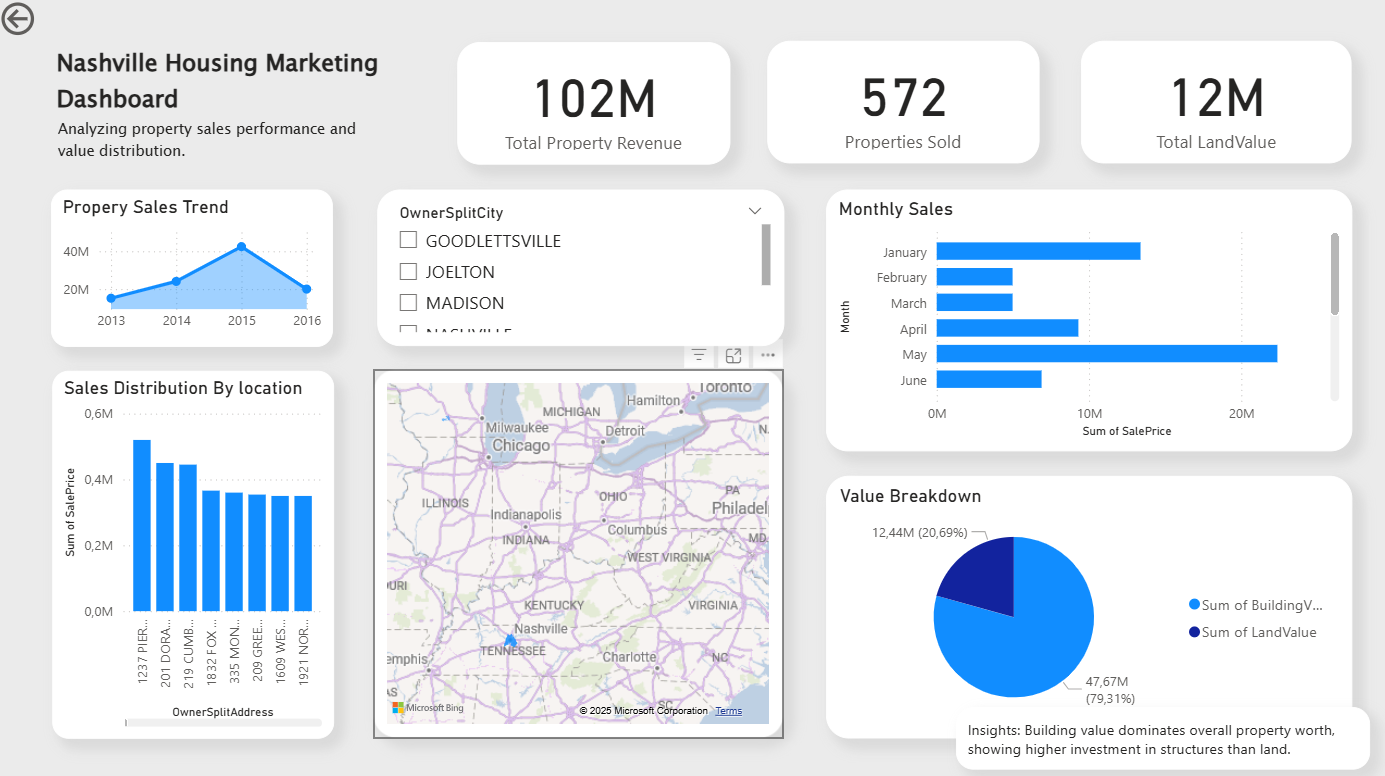

The dashboard page shown, as its layout file describes it:
{"tool":"powerbi","page":{"name":"Page 1","canvas":[1280,720],"ordinal":0},"visuals":[{"type":"textbox","box":[50.3,40.5,333.7,76.1],"z":0},{"type":"card","fields":{"Values":["Sum(nashvillehousing_messy_2.SalePrice)"]},"box":[424,41.2,251.1,112.5],"z":1000},{"type":"card","fields":{"Values":["CountNonNull(nashvillehousing_messy_2.PropertySplitAddress)"]},"box":[709.2,40.5,250.3,112.9],"z":2000},{"type":"filledMap","fields":{"Category":["nashvillehousing_messy_2.PropertySplitCity"]},"box":[347.1,342.9,377.1,338.6],"z":3000},{"type":"areaChart","title":"Propery Sales Trend ","fields":{"Category":["nashvillehousing_messy_2.SaleDateConverted.Variation.Date Hierarchy.Year"],"Y":["Sum(nashvillehousing_messy_2.SalePrice)"]},"box":[50.3,176.7,258.9,144.8],"z":4000},{"type":"card","fields":{"Values":["Sum(nashvillehousing_messy_2.LandValue)"]},"box":[997.6,40.5,249.1,112.9],"z":5000},{"type":"actionButton","box":[0,0,100,40],"z":6000},{"type":"clusteredBarChart","title":"Monthly Sales","fields":{"Category":["nashvillehousing_messy_2.SaleDateConverted.Variation.Date Hierarchy.Month"],"Y":["Sum(nashvillehousing_messy_2.SalePrice)"]},"box":[763.3,177.1,483.9,240.5],"z":7000},{"type":"clusteredColumnChart","title":"Sales Distribution By location","fields":{"Category":["nashvillehousing_messy_2.OwnerSplitAddress"],"Y":["Sum(nashvillehousing_messy_2.SalePrice)"]},"box":[51.5,343.6,258.9,338.7],"z":8000},{"type":"textbox","box":[51.5,106.9,299.2,53.1],"z":10000},{"type":"pieChart","title":"Value Breakdown","fields":{"Y":["Sum(nashvillehousing_messy_2.BuildingValue)","Sum(nashvillehousing_messy_2.LandValue)"]},"box":[763.8,440,483.8,241.2],"z":10001},{"type":"slicer","fields":{"Values":["nashvillehousing_messy_2.OwnerSplitCity"]},"box":[350,177.1,374.3,144.3],"z":10002},{"type":"textbox","box":[882.9,652.4,380.6,57.6],"z":10003}]}

Visuals, with their boxes in screenshot pixels (x1, y1, x2, y2), scaled from the page's 1280x720 canvas onto the 1385x776 screenshot:
textbox: Rect(54, 44, 416, 126)
card - Sum(nashvillehousing_messy_2.SalePrice): Rect(459, 44, 730, 166)
card - CountNonNull(nashvillehousing_messy_2.PropertySplitAddress): Rect(767, 44, 1038, 165)
filledMap - nashvillehousing_messy_2.PropertySplitCity: Rect(376, 370, 784, 735)
"Propery Sales Trend " areaChart: Rect(54, 190, 335, 347)
card - Sum(nashvillehousing_messy_2.LandValue): Rect(1079, 44, 1349, 165)
actionButton: Rect(0, 0, 108, 43)
"Monthly Sales" clusteredBarChart: Rect(826, 191, 1350, 450)
"Sales Distribution By location" clusteredColumnChart: Rect(56, 370, 336, 735)
textbox: Rect(56, 115, 379, 172)
"Value Breakdown" pieChart: Rect(826, 474, 1350, 734)
slicer - nashvillehousing_messy_2.OwnerSplitCity: Rect(379, 191, 784, 346)
textbox: Rect(955, 703, 1367, 765)
